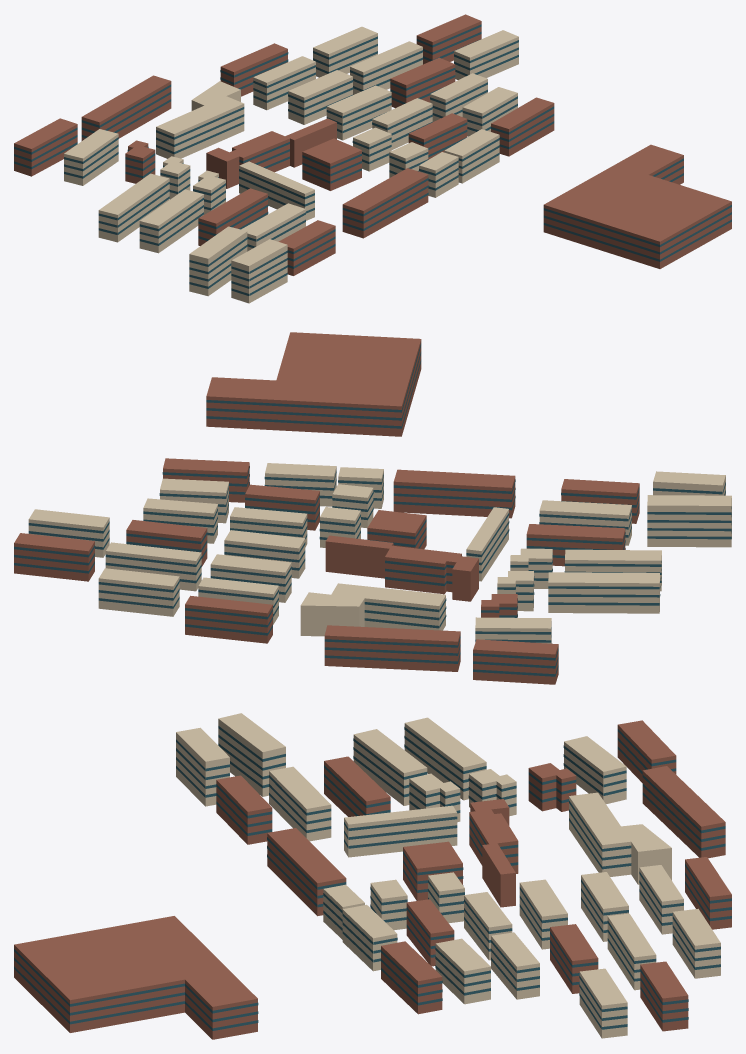
The model's file is city_7_-1.glb.
3 views of the same model, one above another, from view 1: azimuth 30°, elevation 25°; view 2: azimuth 150°, elevation 25°; view 3: azimuth 270°, elevation 25° (orthographic). The views are drawn at different scales.
Visible parts, largest first — view 1: city_7_-1; view 2: city_7_-1; view 3: city_7_-1.
Boxes of the visible parts, x1,y1,x2,y2 form: city_7_-1: (14,14,731,303); city_7_-1: (14,332,731,684); city_7_-1: (14,713,731,1039).
Bounding box in the file's own units: 282 × 20.4 × 296.
